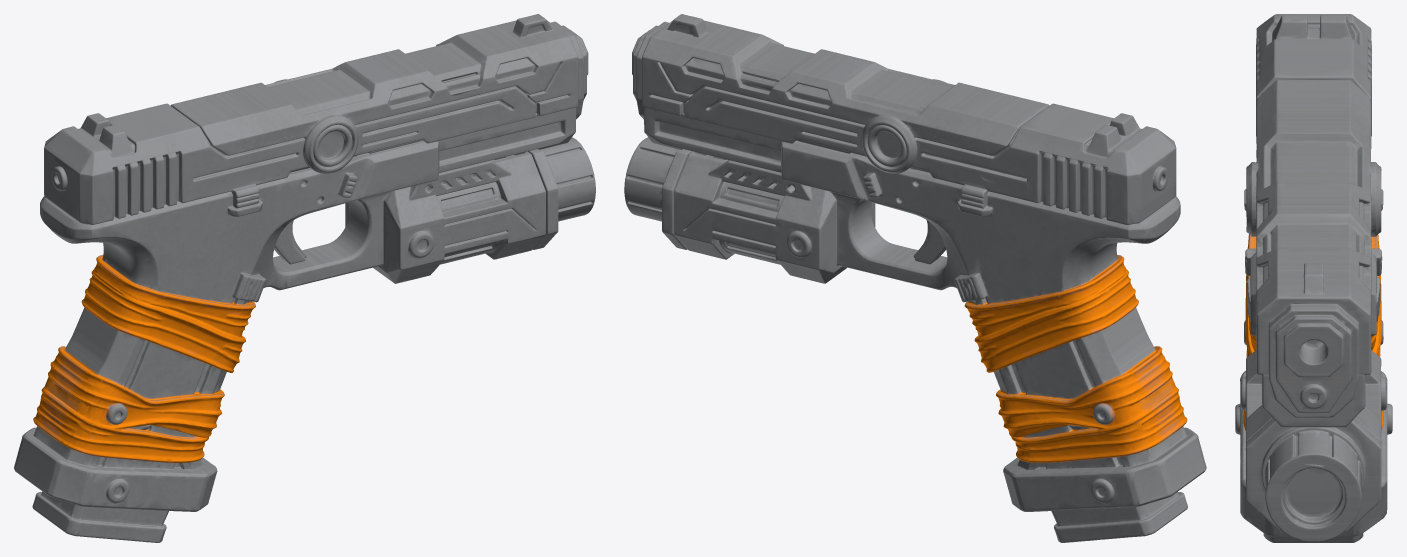
The model's file is glock.glb.
The picture shows the model from 3 angles, left to right: view 1: azimuth 30°, elevation 25°; view 2: azimuth 150°, elevation 25°; view 3: azimuth 270°, elevation 25°; orthographic projection. The views are drawn at different scales.
Visible parts, largest first — view 1: texture_pbr_v128; view 2: texture_pbr_v128; view 3: texture_pbr_v128.
Boxes of the visible parts, <box> form: texture_pbr_v128: <box>14,14,595,542</box>; texture_pbr_v128: <box>624,14,1206,542</box>; texture_pbr_v128: <box>1235,14,1392,542</box>.
Bounding box in the file's own units: 3.81 × 2.77 × 0.786.
Materials: 1 (1 with a texture image).
